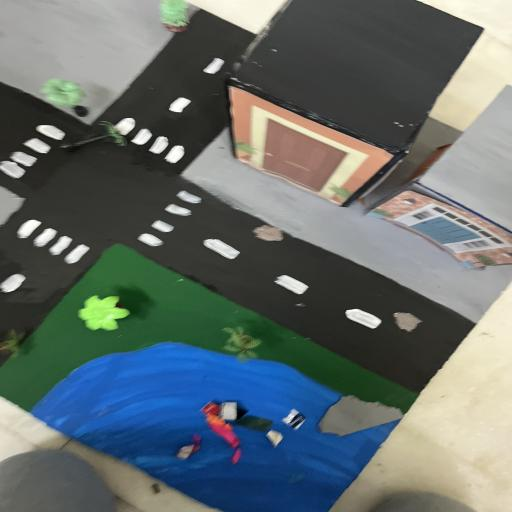encroachment: (314, 392, 402, 436)
fallen trees: (58, 120, 130, 152)
porthole: (391, 310, 424, 334), (252, 224, 290, 244)
trash: (174, 398, 304, 466)
